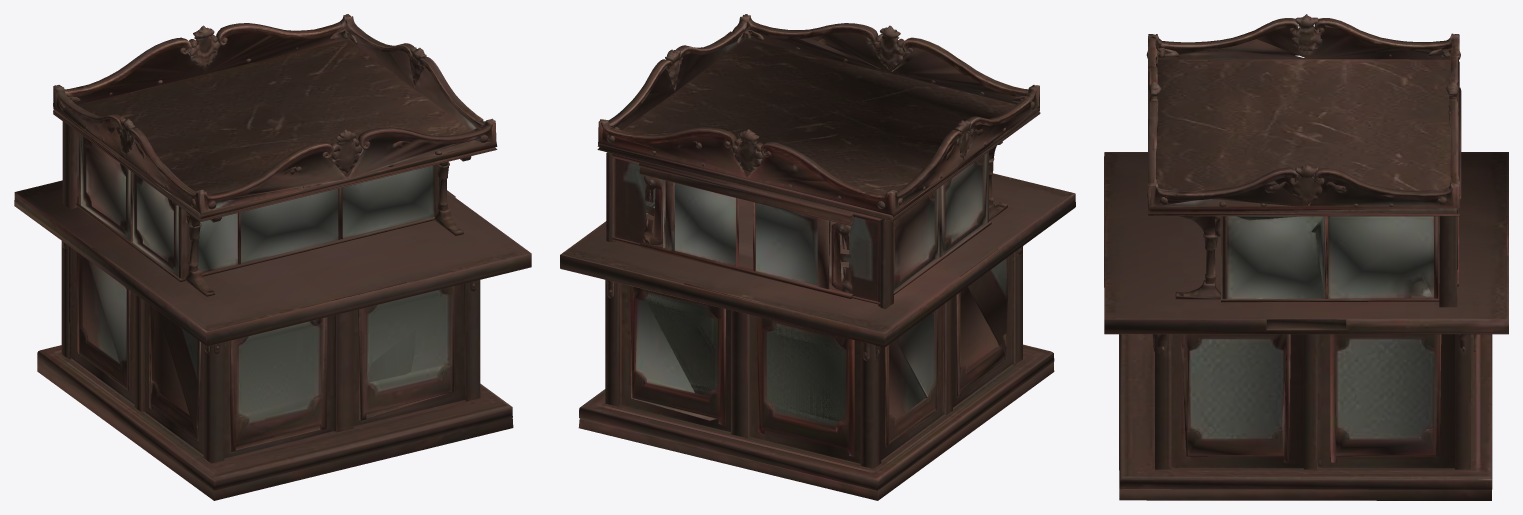
The model's file is booth-counter.glb.
The picture shows the model from 3 angles, left to right: view 1: azimuth 30°, elevation 25°; view 2: azimuth 150°, elevation 25°; view 3: azimuth 270°, elevation 25°; orthographic projection. The views are drawn at different scales.
Parts seen in each view (by area): view 1: midway-fit; view 2: midway-fit; view 3: midway-fit.
Part boxes in pixels (x1,y1,x2,y2): midway-fit: [14, 14, 531, 500]; midway-fit: [560, 14, 1075, 500]; midway-fit: [1104, 14, 1508, 500].
Size of the model in its own units: 0.9805 by 0.9281 by 1.
Materials: 1 (1 with a texture image).
